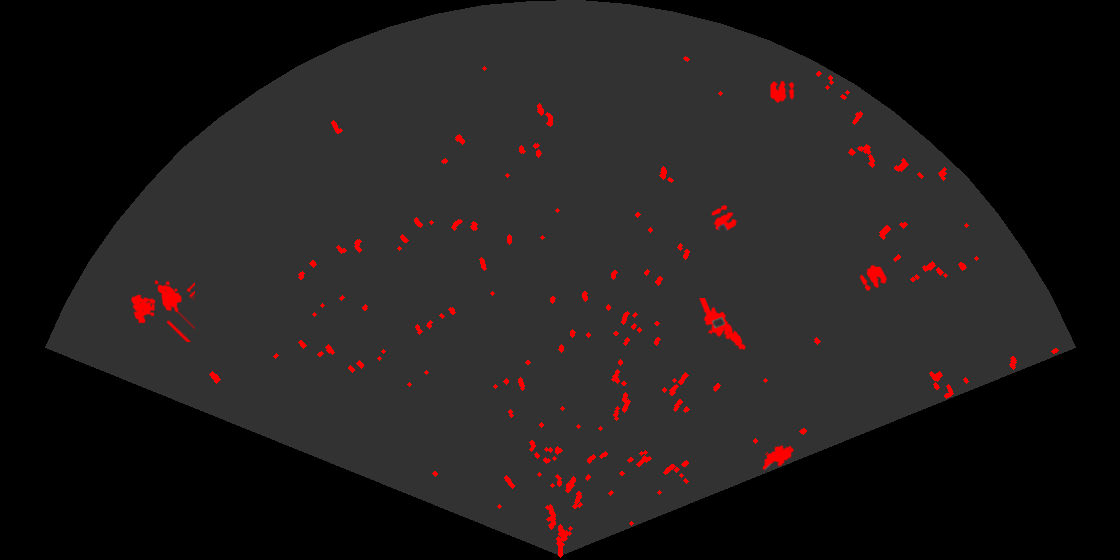AUV: (761, 444, 796, 472)
ball: (858, 263, 889, 293), (710, 203, 739, 232), (769, 79, 796, 104)
cage: (129, 279, 195, 342)
frogman: (697, 298, 747, 352)
